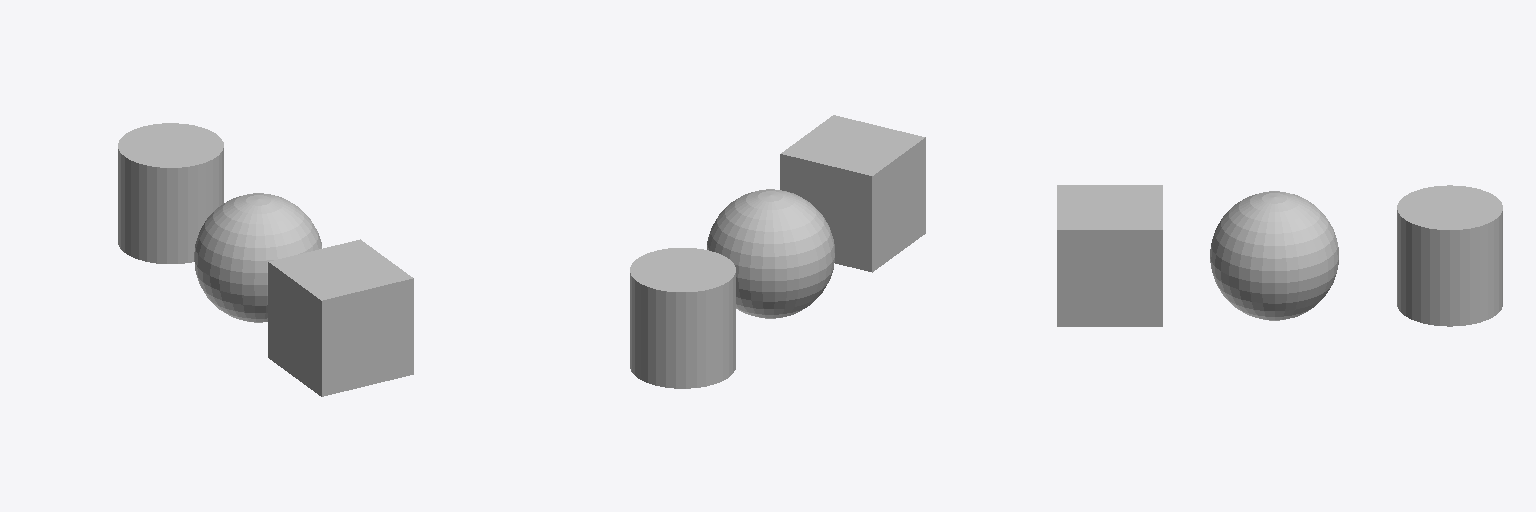
File: ThreeObj.obj
The picture shows the model from 3 angles: view 1: azimuth 30°, elevation 25°; view 2: azimuth 150°, elevation 25°; view 3: azimuth 270°, elevation 25°; orthographic projection.
Visible parts, largest first — view 1: Cube_Cube.001, Cylinder, Sphere; view 2: Cube_Cube.001, Cylinder, Sphere; view 3: Cube_Cube.001, Cylinder, Sphere.
Part boxes in pixels (left/top/right/bottom): Cube_Cube.001: left=268, top=239, right=413, bottom=396; Cylinder: left=118, top=123, right=223, bottom=263; Sphere: left=194, top=193, right=321, bottom=322; Cube_Cube.001: left=780, top=115, right=925, bottom=272; Cylinder: left=630, top=248, right=735, bottom=388; Sphere: left=707, top=189, right=834, bottom=318; Cube_Cube.001: left=1057, top=185, right=1162, bottom=326; Cylinder: left=1397, top=185, right=1502, bottom=326; Sphere: left=1210, top=191, right=1338, bottom=320.
Bounding box in the file's own units: 2.44 × 2.44 × 8.4.